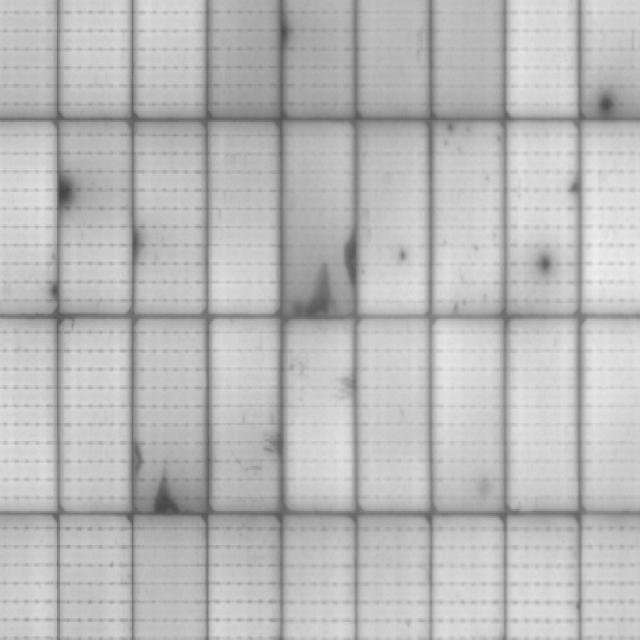BLACK SPOT: (341, 230, 376, 296), (298, 264, 334, 326), (147, 470, 179, 519), (52, 170, 78, 226), (538, 245, 558, 282), (600, 95, 614, 114)
